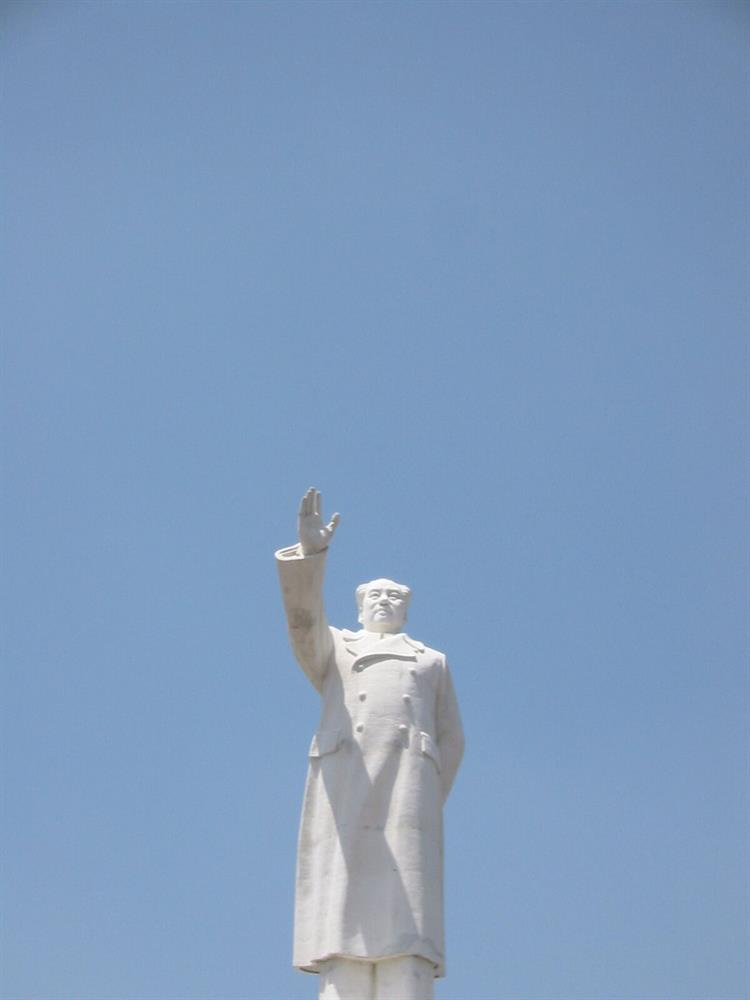Chairman_Mao_Statue: (263, 478, 465, 986)
